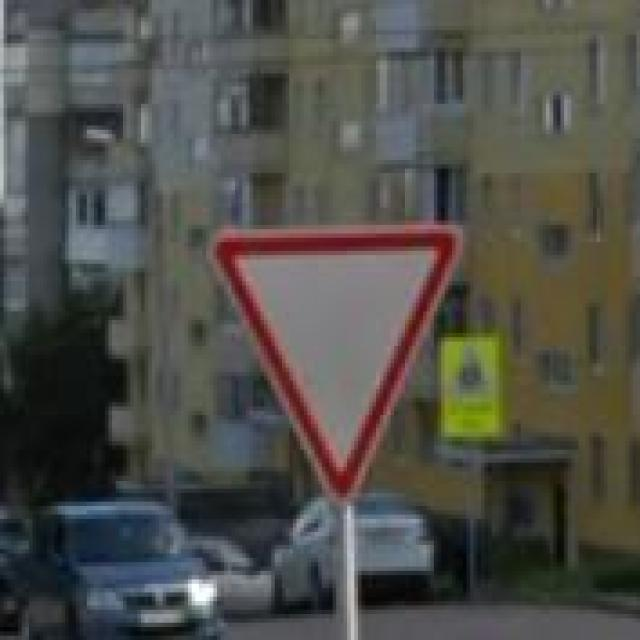give_way: (210, 224, 463, 502)
